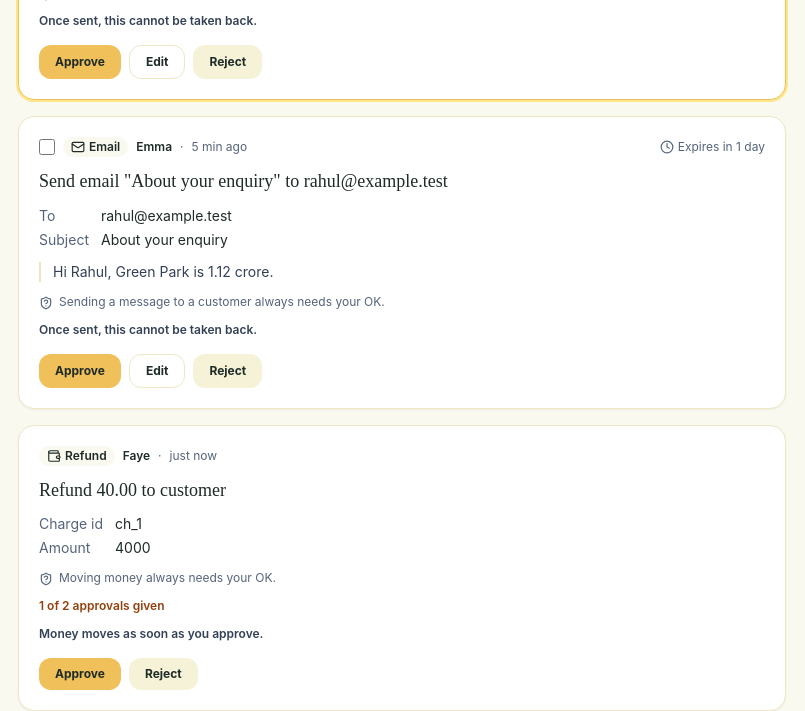
Test: Approvals page › can reject, and nothing is sent
(page scrolled)
Expected: the heading "Send email \"About your enquiry\" to rahul@example.test" is shown, top-left (39, 171), bottom-right (448, 191)
Click the button "Reject" below "Hi Rahul, Green Park is 1.12 crore." at [228, 370], box top-left (194, 354), bottom-right (262, 388)
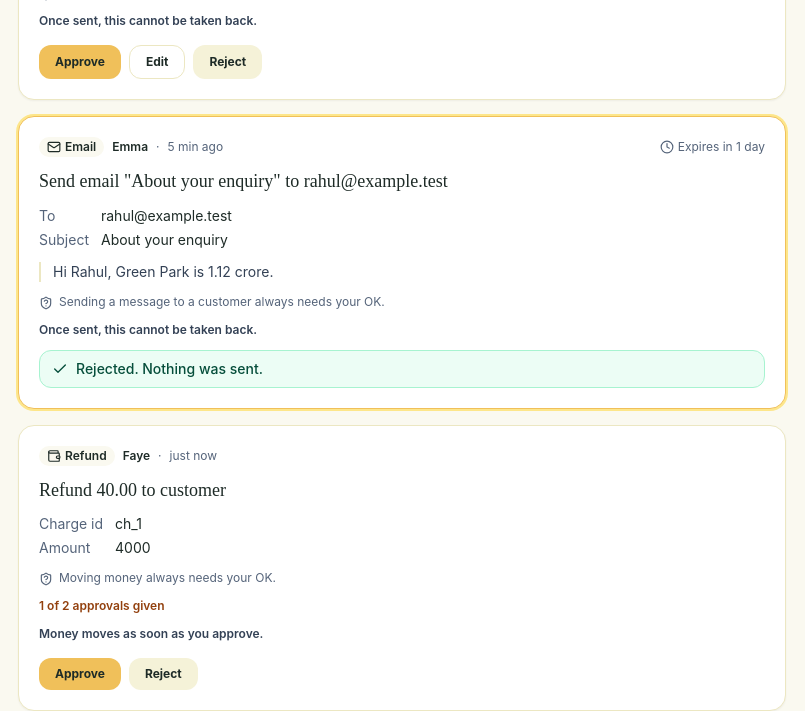
Result: the text "Rejected. Nothing was sent." is shown at top-left (76, 358), bottom-right (263, 378)
